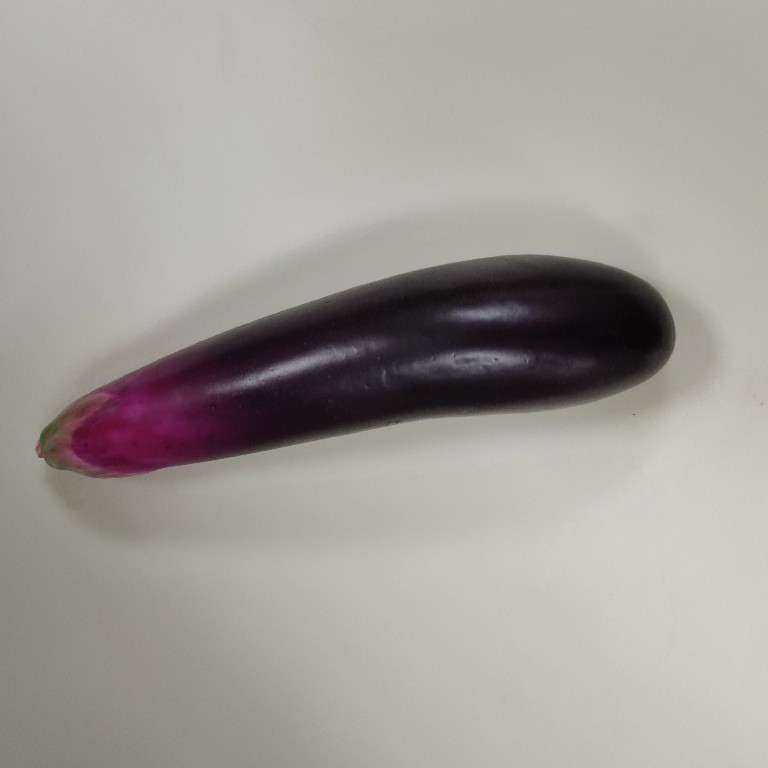fruit_eggplant: (30, 248, 681, 484)
